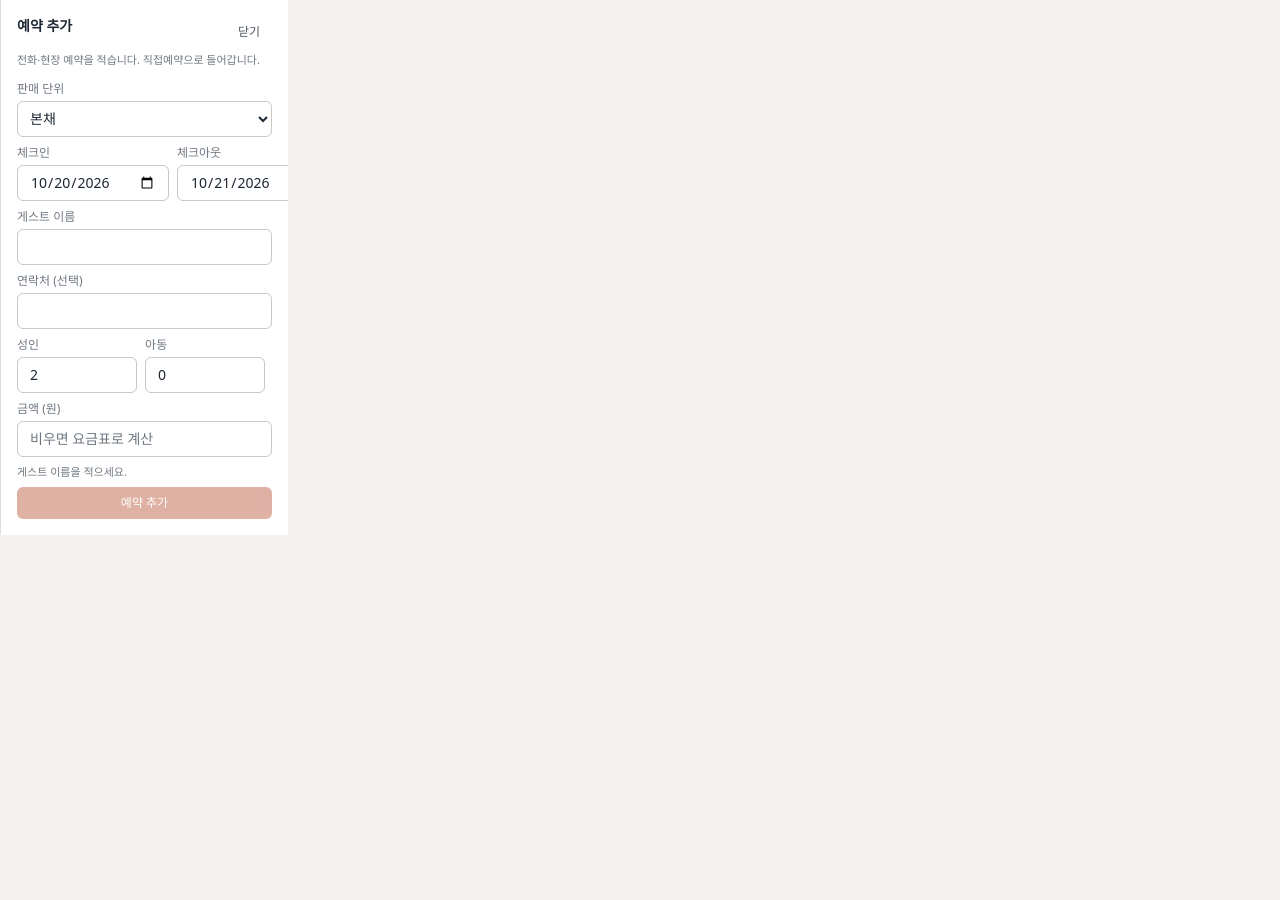
Test: 예약 추가 › 서버가 거절하면 그 문구를 그대로 보인다
Select "별채" in the dropdown with test id "new-reservation-unit" at (144, 118), box left=17, top=100, right=272, bottom=136
Type "2027-03-05" into the date field with test id "new-reservation-check-in".
click(93, 182); type("2027-03-05")  # box left=17, top=164, right=169, bottom=200
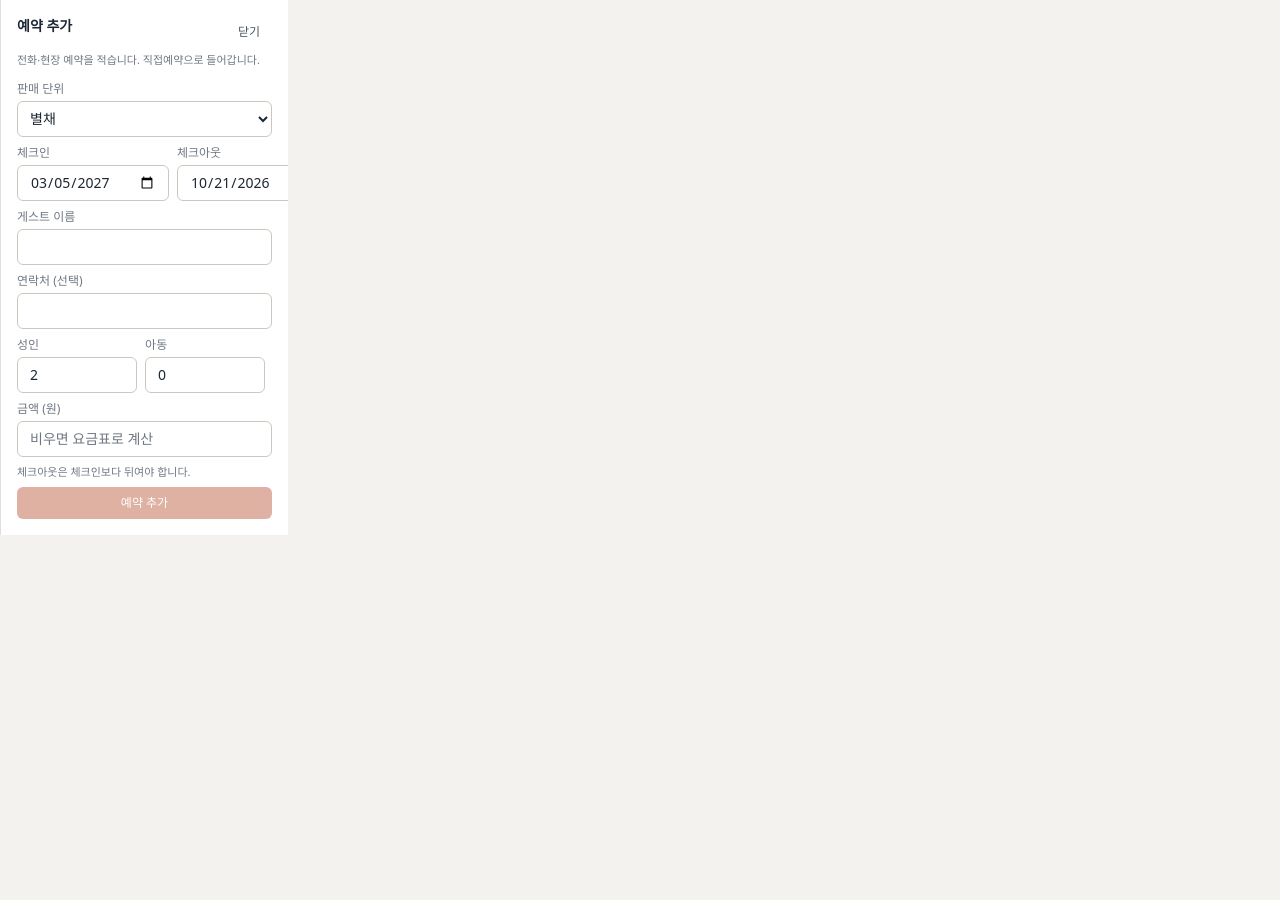
Type "2027-03-07" into the date field with test id "new-reservation-check-out".
click(253, 182); type("2027-03-07")  # box left=177, top=164, right=329, bottom=200
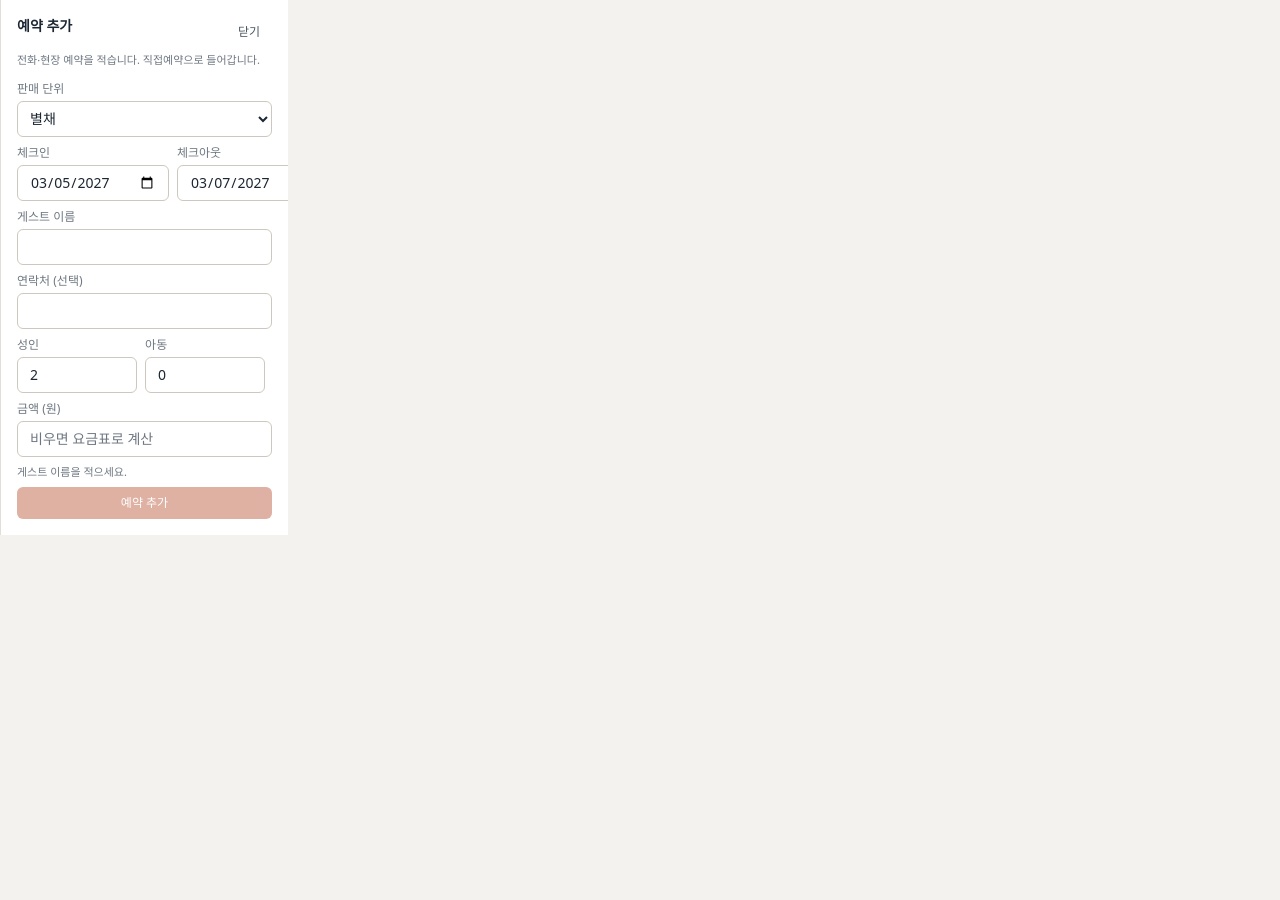
Type " 전화 손님 " into the field with test id "new-reservation-guest".
click(144, 246); type(" 전화 손님 ")  # box left=17, top=228, right=272, bottom=264
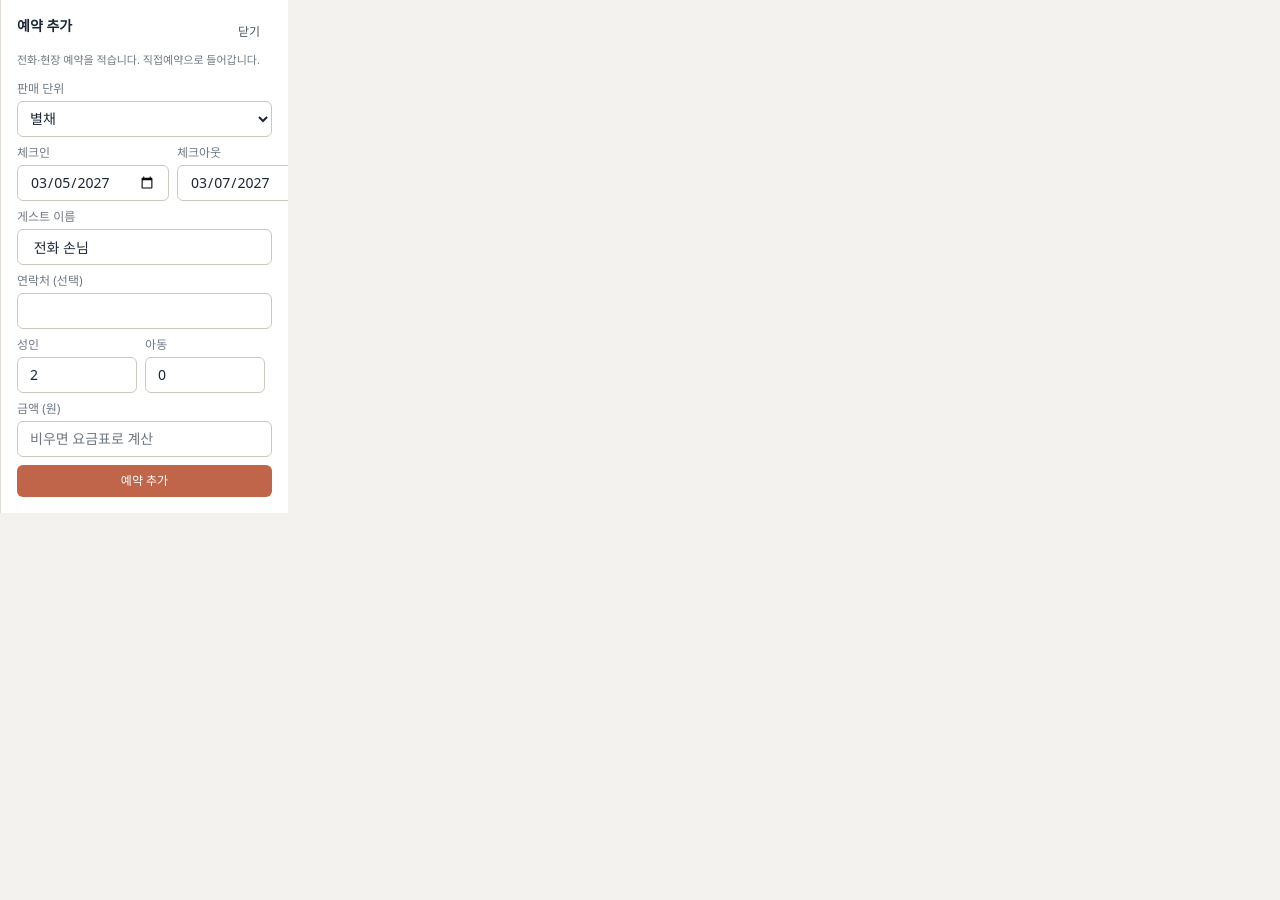
Replace the text in the number field with test id "new-reservation-adults" with "3" at (77, 374), box left=17, top=356, right=137, bottom=392
Replace the text in the number field with test id "new-reservation-children" with "1" at (205, 374), box left=145, top=356, right=265, bottom=392
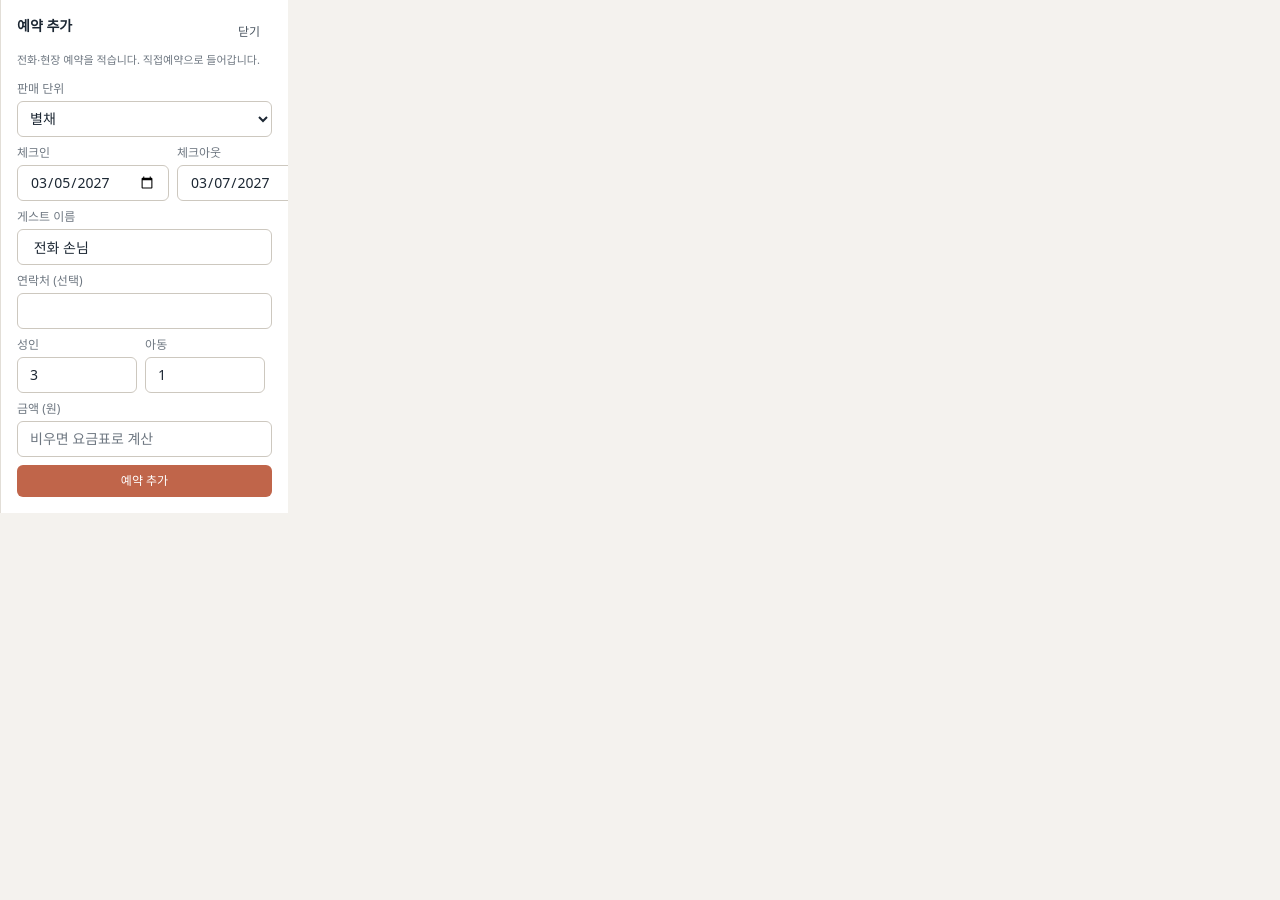
Click the button with test id "new-reservation-submit".
click(144, 480)  # box left=17, top=464, right=272, bottom=496
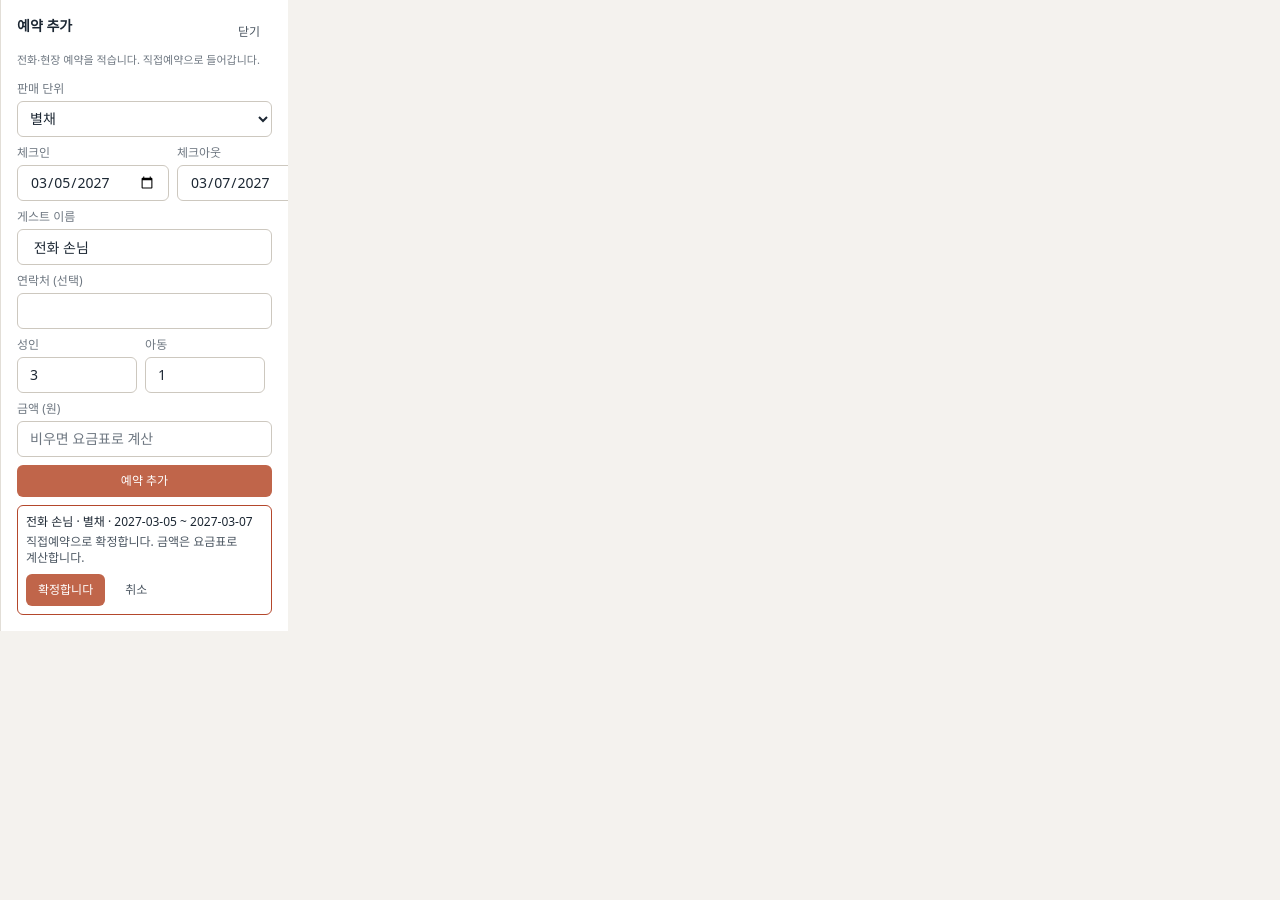
Click the button with test id "new-reservation-confirm-button".
click(66, 590)  # box left=26, top=574, right=105, bottom=606
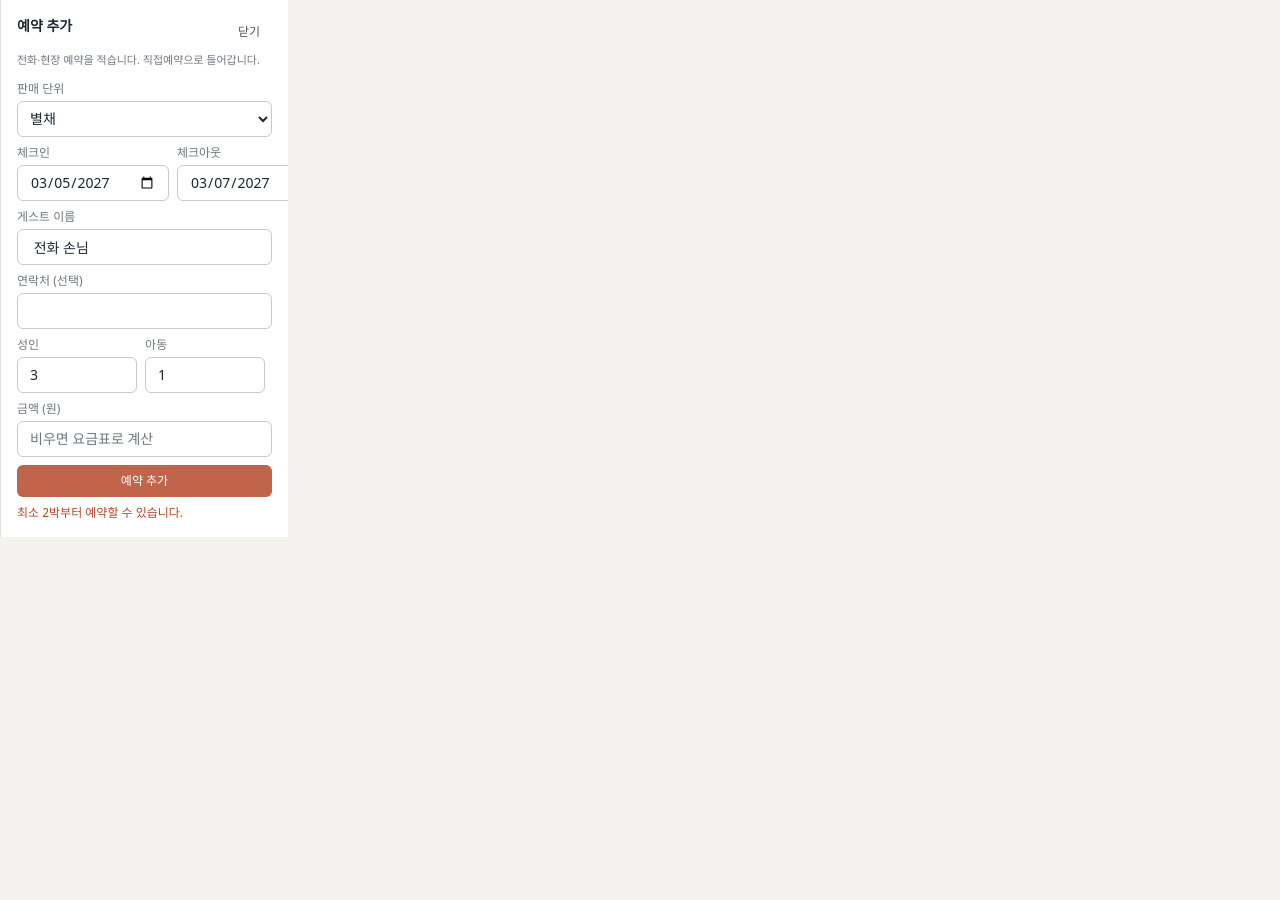
Expected: the message with test id "new-reservation-error" reads "최소 2박부터 예약할 수 있습니다.", left=17, top=504, right=183, bottom=520
